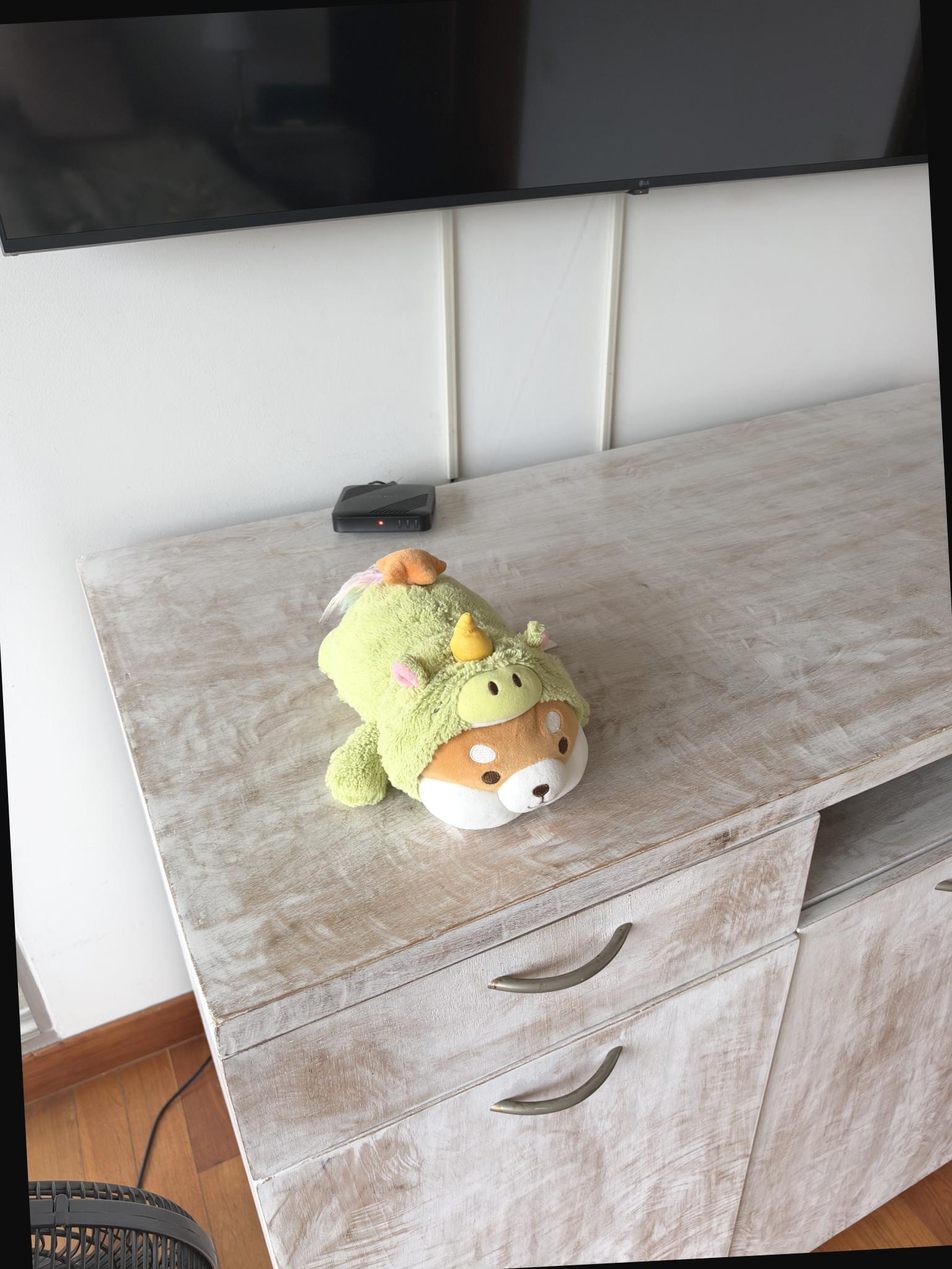peluche_martin: (311, 538, 597, 838)
